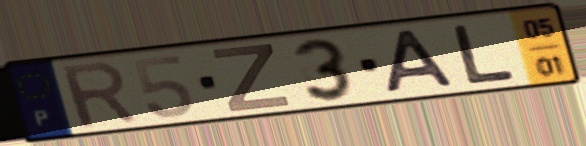3: (289, 35, 358, 104)
5: (130, 52, 197, 120)
A: (383, 27, 460, 96)
L: (448, 22, 519, 86)
R: (55, 58, 142, 132)
Z: (208, 42, 295, 115)
